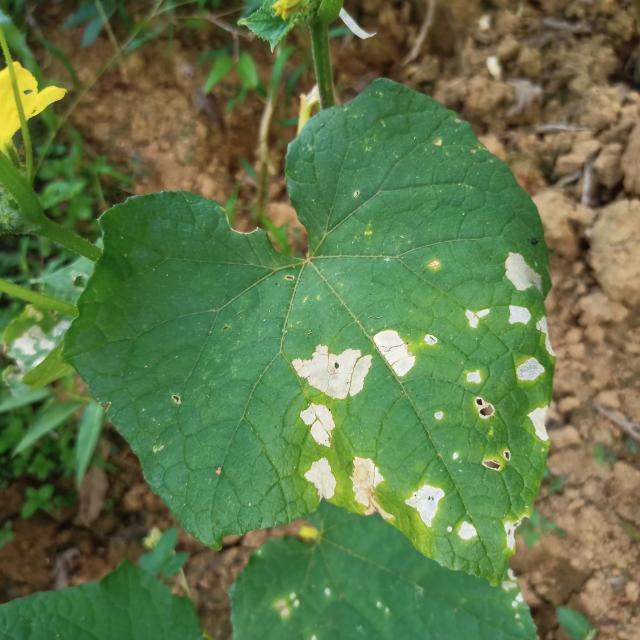disease_cucumber: (293, 329, 414, 398), (305, 456, 383, 508), (406, 485, 478, 541), (504, 251, 542, 328), (466, 371, 496, 424), (300, 404, 335, 447), (529, 405, 549, 439), (516, 356, 544, 379), (537, 316, 553, 356), (463, 306, 490, 328)
